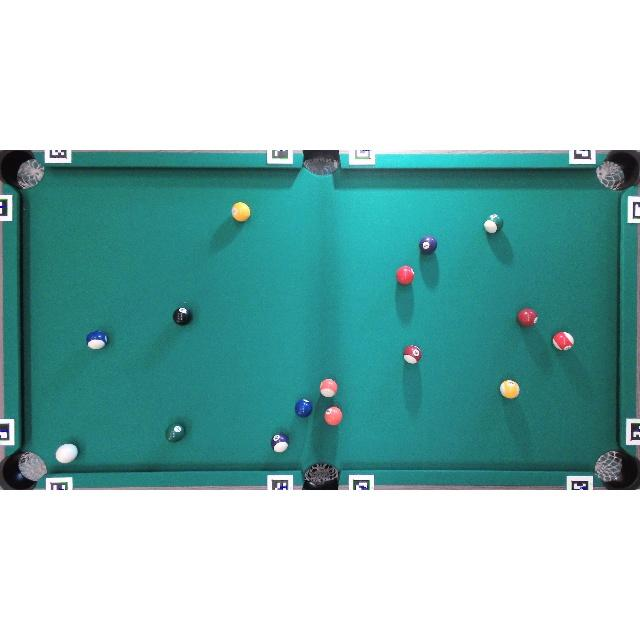cue ball: (55, 443, 78, 464)
other: (165, 422, 186, 442), (86, 331, 108, 350), (552, 331, 574, 350), (172, 306, 192, 326), (517, 308, 537, 327), (324, 406, 343, 426), (396, 265, 415, 285), (500, 379, 520, 398), (484, 213, 503, 233), (403, 345, 422, 364), (295, 398, 313, 418), (232, 202, 250, 222), (320, 378, 338, 398), (271, 433, 289, 452), (420, 236, 437, 254)
